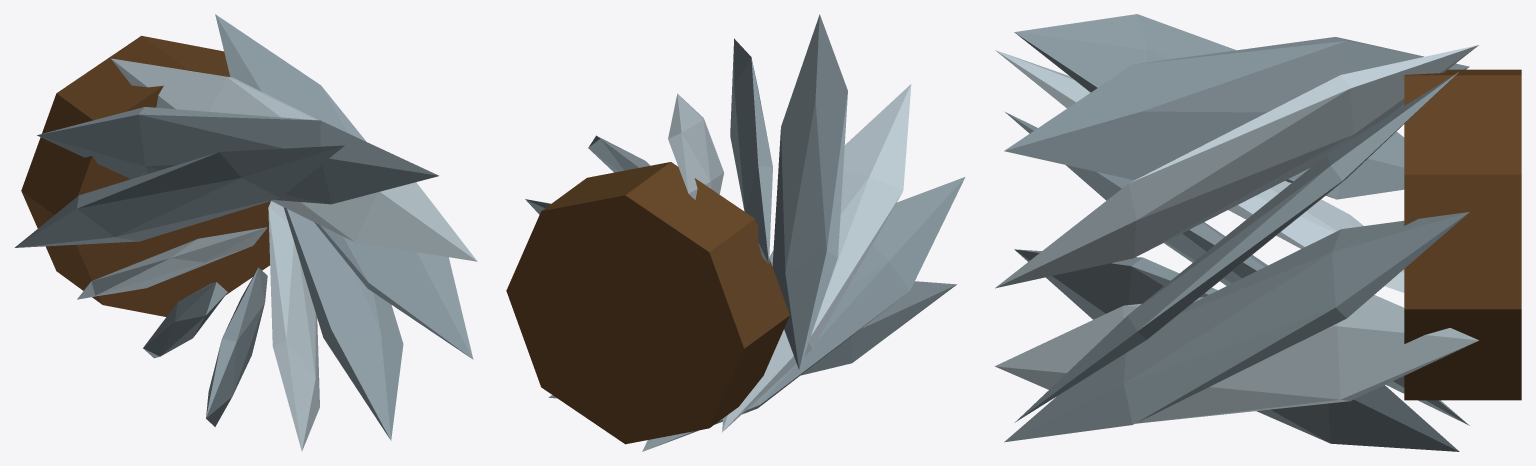
Rendered from 3_growing.obj.
3 views of the same model, side by side, from view 1: azimuth 30°, elevation 25°; view 2: azimuth 150°, elevation 25°; view 3: azimuth 270°, elevation 25° (orthographic). The views are drawn at different scales.
Visible parts, largest first — view 1: dwarfweed_3_growing; view 2: dwarfweed_3_growing; view 3: dwarfweed_3_growing.
Boxes of the visible parts, x1,y1,x2,y2 form: dwarfweed_3_growing: (14, 14, 477, 451); dwarfweed_3_growing: (506, 14, 965, 451); dwarfweed_3_growing: (995, 14, 1521, 451).
Bounding box in the file's own units: 0.1511 × 0.1483 × 0.1797.
